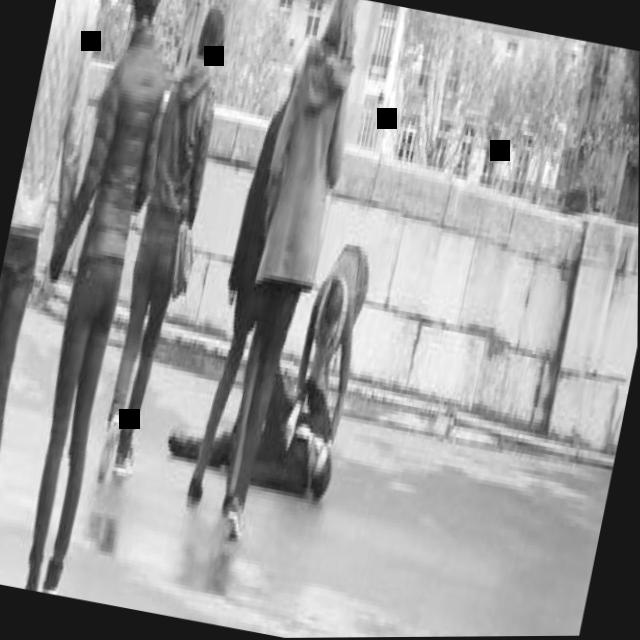Fall-Detected: (162, 309, 367, 517)
